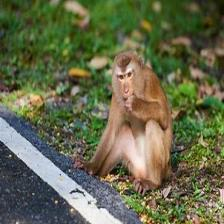monkey: (92, 39, 176, 194)
